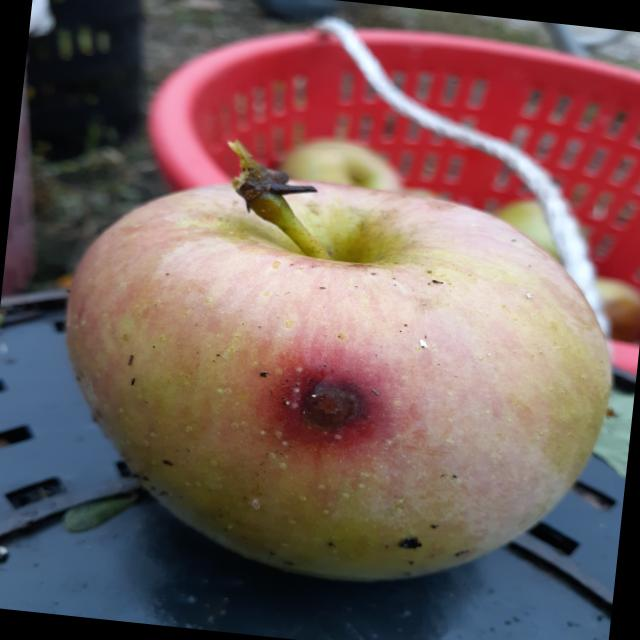rotten: (33, 140, 640, 618)
